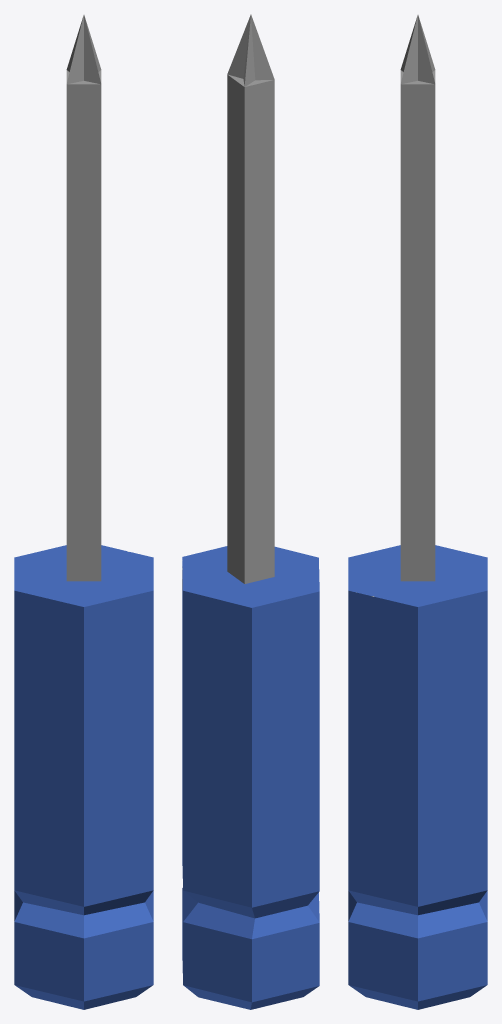
File: screwdriver.gltf
The picture shows the model from 3 angles, left to right: view 1: azimuth 90°, elevation 25°; view 2: azimuth 210°, elevation 25°; view 3: azimuth 270°, elevation 25°; orthographic projection.
Visible parts, largest first — view 1: cylinder, pyramid; view 2: cylinder, pyramid; view 3: cylinder, pyramid.
Boxes of the visible parts, left/top/right/bottom form: cylinder: left=14, top=545, right=153, bottom=1009; pyramid: left=66, top=15, right=101, bottom=581; cylinder: left=182, top=546, right=319, bottom=1009; pyramid: left=227, top=14, right=274, bottom=583; cylinder: left=348, top=545, right=487, bottom=1009; pyramid: left=400, top=15, right=435, bottom=581.
Bounding box in the file's own units: 1.12 × 7.69 × 1.
2 materials, 2 textured.
